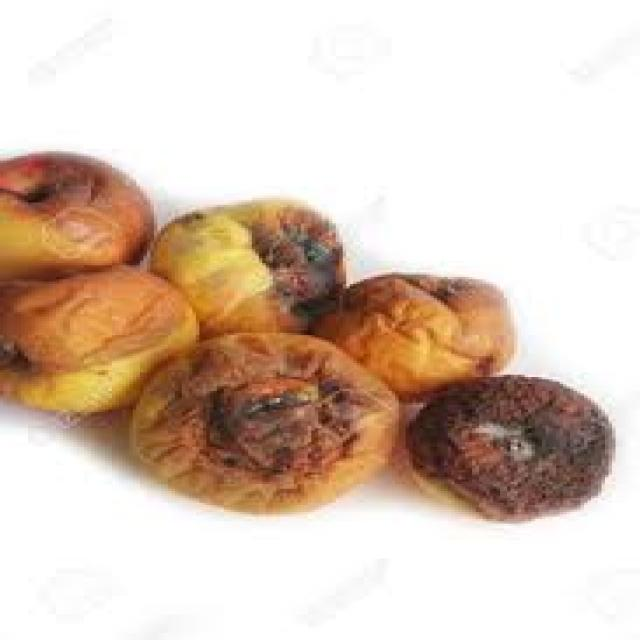food_waste: (0, 154, 609, 519)
